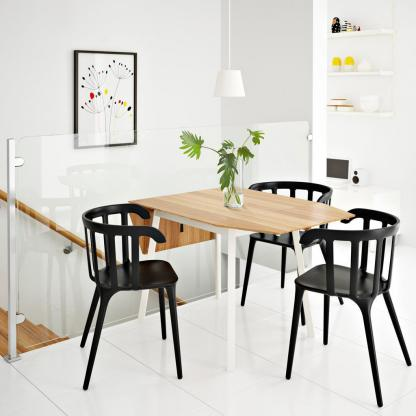Chair: (75, 199, 185, 392)
